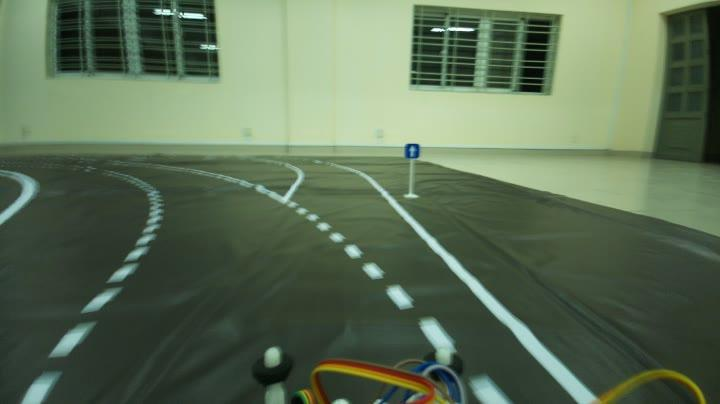onewayroad: (404, 141, 423, 160)
